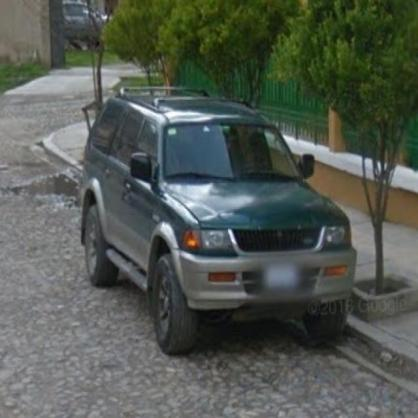car: (77, 86, 357, 358)
